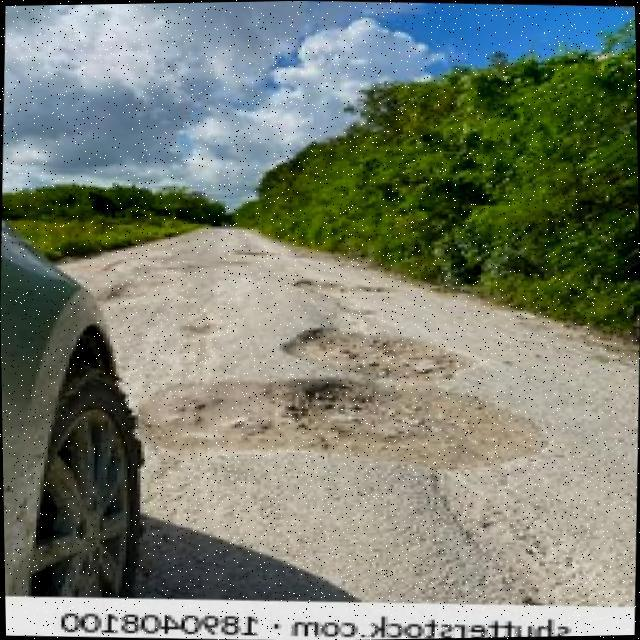Pothole: (138, 379, 542, 461), (280, 328, 467, 382), (295, 278, 397, 296)
